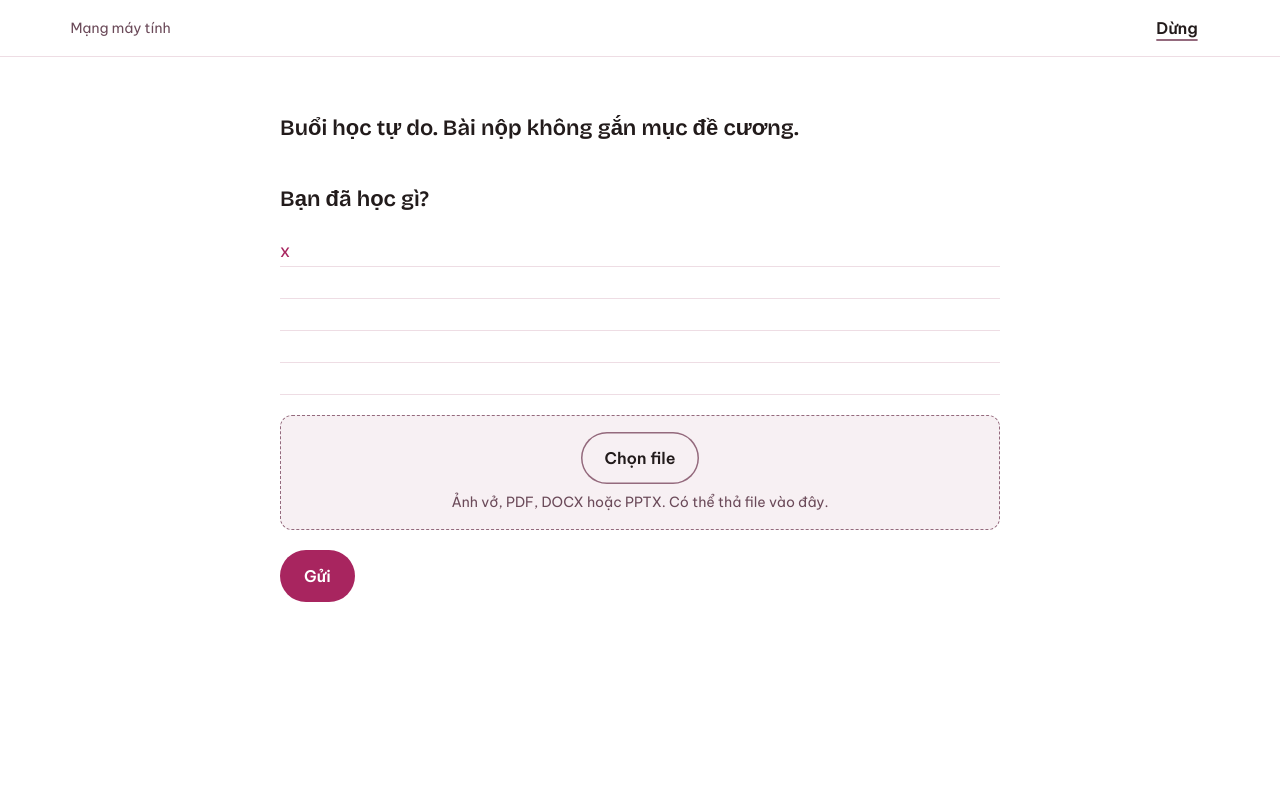
Scenario: study session on core-api › a send that does not get through goes back to the form with a neutral line
Click the button "Gửi": (317, 576) [280, 550, 355, 602]
Wait 50 ms
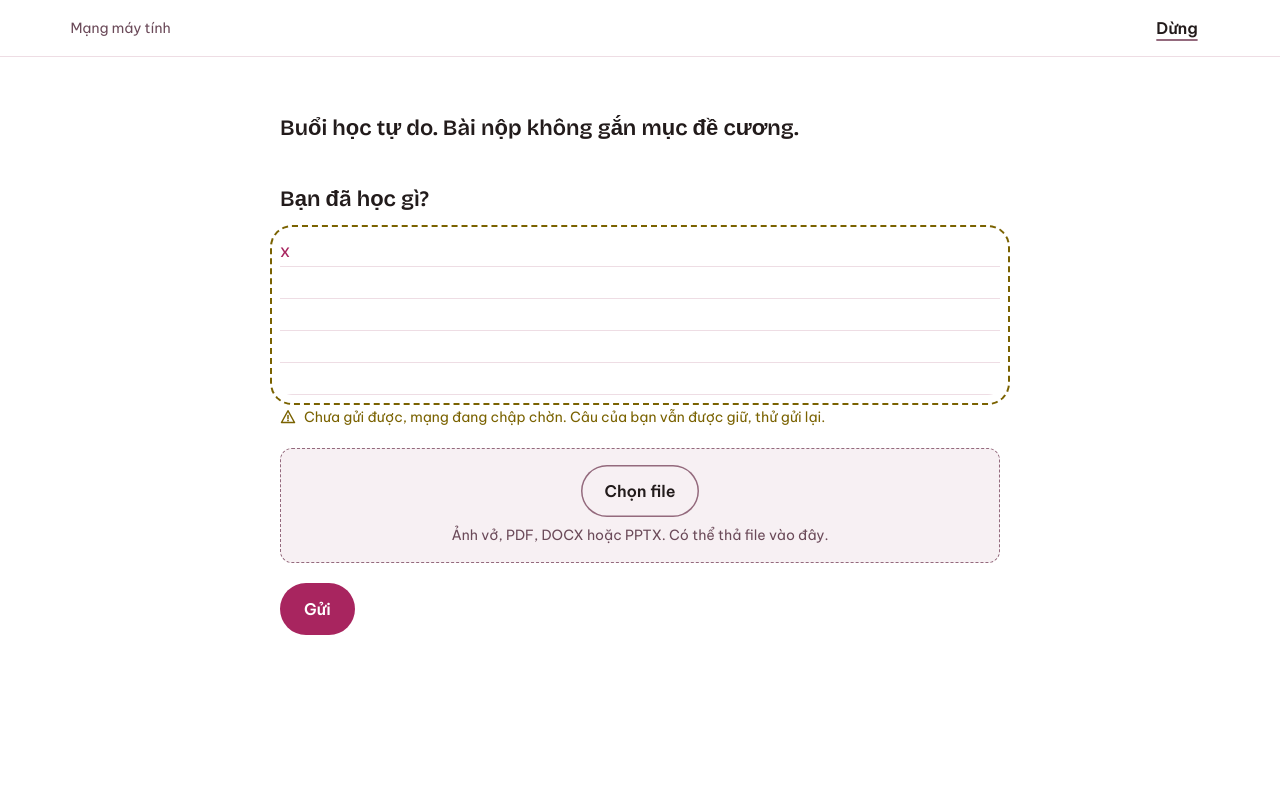
Expected: the button "Gửi" is shown, [280, 583, 355, 635]
Expected: the text "Chưa gửi được" is shown, [304, 408, 825, 426]
